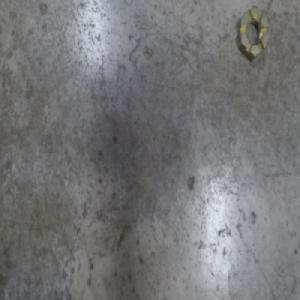Nut: (236, 6, 270, 65)
